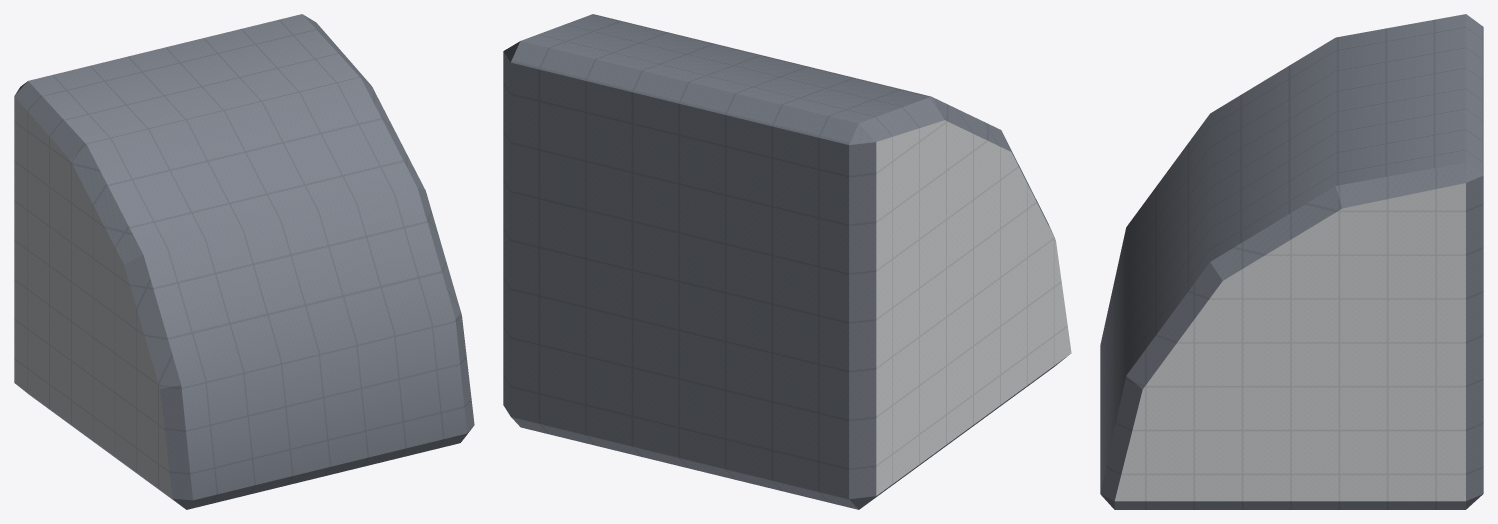
The model's file is R4B_RoundEdge_LOD1.glb.
The picture shows the model from 3 angles, left to right: view 1: azimuth 30°, elevation 25°; view 2: azimuth 150°, elevation 25°; view 3: azimuth 270°, elevation 25°; orthographic projection. The views are drawn at different scales.
Visible parts, largest first — view 1: R4B_RoundEdge_LOD1; view 2: R4B_RoundEdge_LOD1; view 3: R4B_RoundEdge_LOD1.
Boxes of the visible parts, box(x1,y1,x2,y2) form: R4B_RoundEdge_LOD1: box(14, 14, 474, 509); R4B_RoundEdge_LOD1: box(503, 14, 1071, 509); R4B_RoundEdge_LOD1: box(1100, 14, 1483, 509).
Size of the model in its own units: 0.52 by 0.5153 by 0.5153.
Materials: 2 (2 with a texture image).
